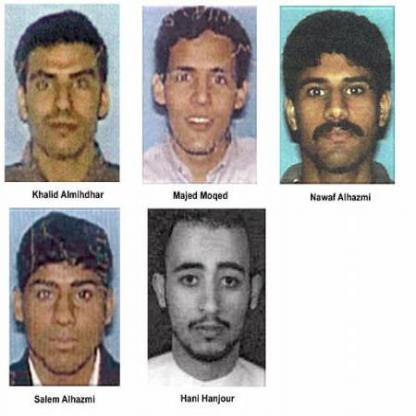face: (293, 14, 383, 173), (166, 205, 256, 364), (23, 219, 107, 376), (26, 18, 102, 160), (166, 11, 239, 156)
